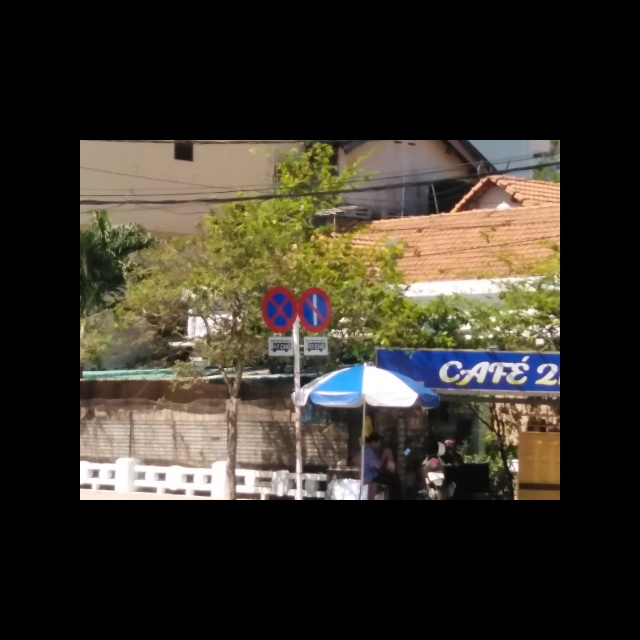Cấm dừng xe và đỗ xe: (262, 287, 297, 332)
Cấm đỗ xe ngày lẻ: (298, 286, 332, 332)
